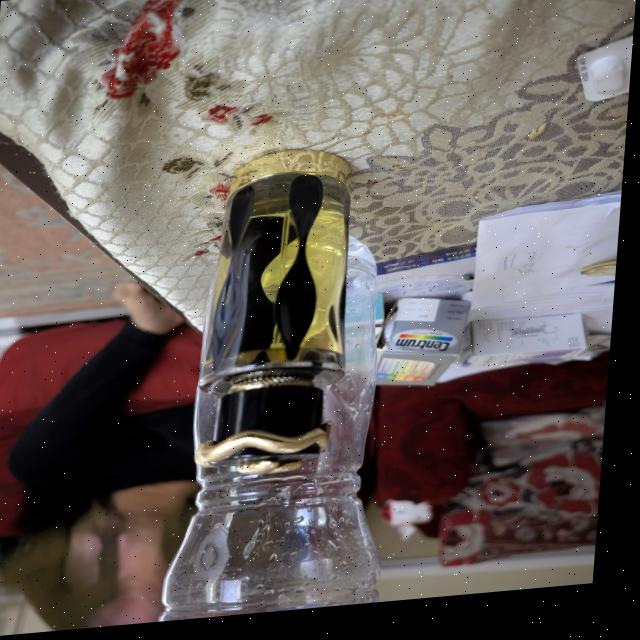Teriaq-Intense: (169, 137, 407, 502)
